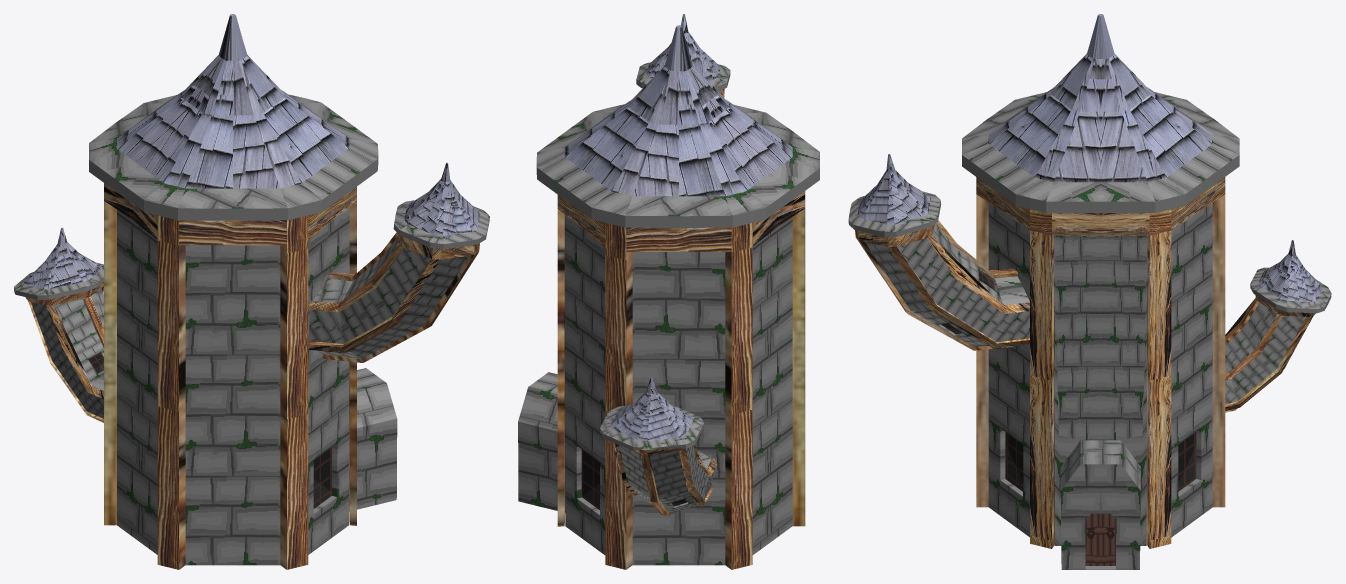
Rendered from weirdhousefbx.fbx.
3 views of the same model, side by side, from view 1: azimuth 30°, elevation 25°; view 2: azimuth 150°, elevation 25°; view 3: azimuth 270°, elevation 25° (orthographic). The views are drawn at different scales.
Parts seen in each view (by area): view 1: Cylinder.009, Cylinder.010, Cylinder.011; view 2: Cylinder.009, Cylinder.011, Cylinder.010; view 3: Cylinder.009, Cylinder.010, Cylinder.011.
Part boxes in pixels (left/top/right/bottom): Cylinder.009: left=89, top=14, right=397, bottom=569; Cylinder.010: left=308, top=162, right=489, bottom=362; Cylinder.011: left=14, top=227, right=103, bottom=422; Cylinder.009: left=518, top=25, right=819, bottom=569; Cylinder.011: left=600, top=377, right=717, bottom=516; Cylinder.010: left=636, top=14, right=730, bottom=97; Cylinder.009: left=962, top=14, right=1239, bottom=569; Cylinder.010: left=848, top=154, right=1029, bottom=350; Cylinder.011: left=1225, top=240, right=1331, bottom=412.
Size of the model in its own units: 770 by 1415 by 1271.
